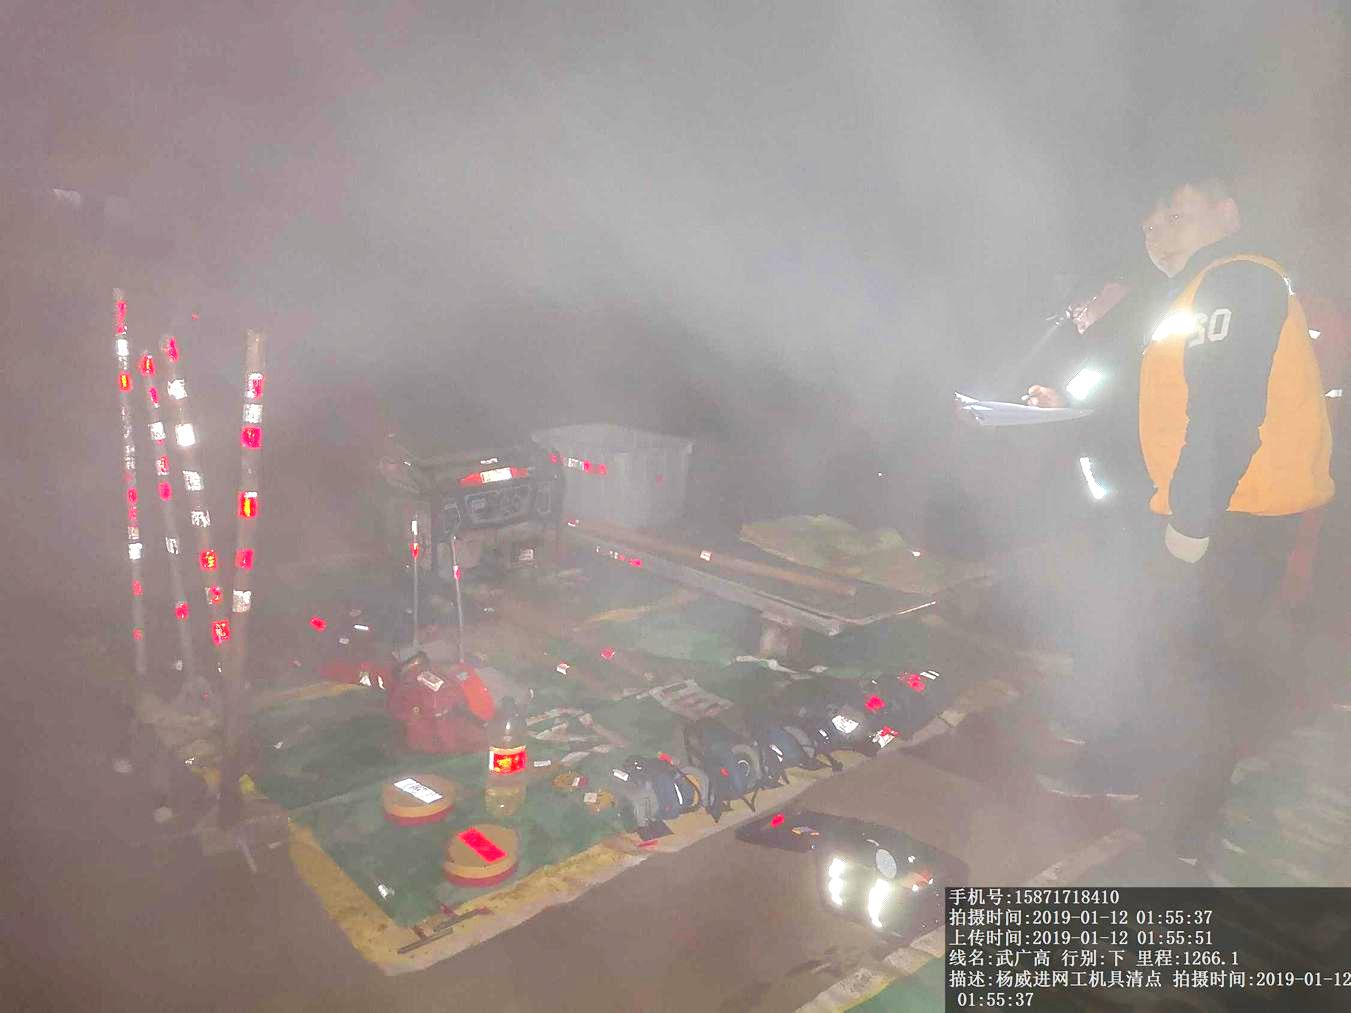BZD: (736, 495, 997, 596)
DJ: (371, 420, 558, 578)
GJB: (739, 800, 968, 929)
JC: (434, 819, 536, 889), (378, 769, 458, 823)
T: (550, 414, 707, 529)
